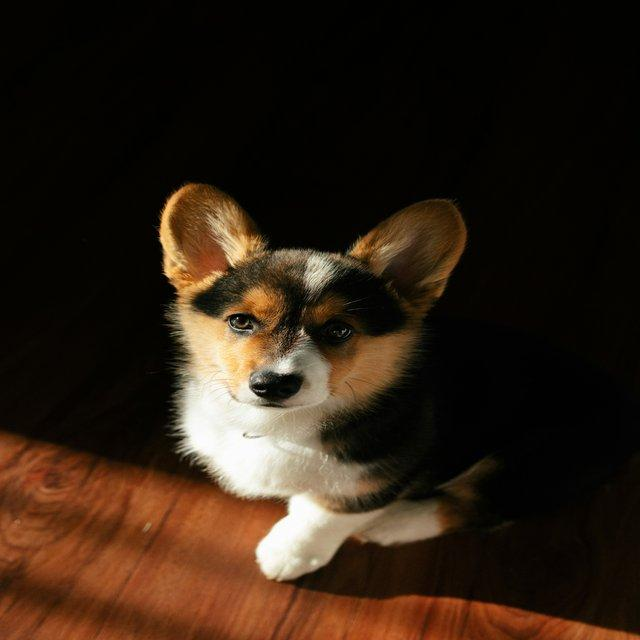corgi: (156, 180, 633, 583)
